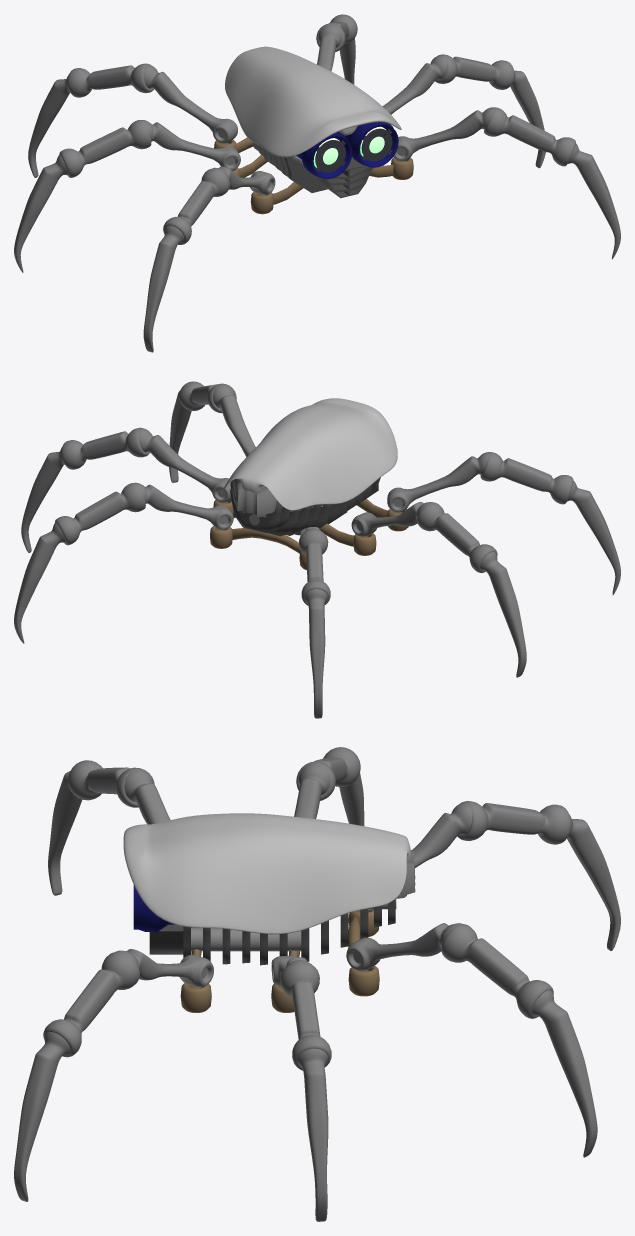
File: aranha_pernalonga.glb
The picture shows the model from 3 angles, top to bottom: view 1: azimuth 30°, elevation 25°; view 2: azimuth 150°, elevation 25°; view 3: azimuth 270°, elevation 25°; orthographic projection. The views are drawn at different scales.
Visible parts, largest first — view 1: Arainha_Pernas_longo_divLayer1, Arainha_Pernas_longo_divLayer3_(5), Arainha_Pernas_longo_divLayer3_(1), Arainha_Pernas_longo_divLayer2_(6), Arainha_Pernas_longo_divLayer4_(4), Arainha_Pernas_longo_divLayer3_(6), Arainha_Pernas_longo_divLayer3_(4), Arainha_Pernas_longo_divLayer4_(5), Arainha_Pernas_longo_divLayer3_(2), Arainha_Pernas_longo_divLayer4_(1), Arainha_Pernas_longo_divLayer2_(1), Arainha_Pernas_longo_divLayer2_(5) (+7 smaller); view 2: Arainha_Pernas_longo_divLayer1, Arainha_Pernas_longo_divLayer3_(4), Arainha_Pernas_longo_divLayer3_(3), Arainha_Pernas_longo_divLayer4_(5), Arainha_Pernas_longo_divLayer3_(5), Arainha_Pernas_longo_divLayer3_(2), Arainha_Pernas_longo_divLayer4_(6), Arainha_Pernas_longo_divLayer2_(2), Arainha_Pernas_longo_divLayer4_(3), Arainha_Pernas_longo_divLayer2_(4), Arainha_Pernas_longo_divLayer4_(4), Arainha_Pernas_longo_divLayer2_(3) (+6 smaller); view 3: Arainha_Pernas_longo_divLayer1, Arainha_Pernas_longo_divLayer3_(3), Arainha_Pernas_longo_divLayer4_(3), Arainha_Pernas_longo_divLayer4_(1), Arainha_Pernas_longo_divLayer3_(1), Arainha_Pernas_longo_divLayer4_(2), Arainha_Pernas_longo_divLayer3_(6), Arainha_Pernas_longo_divLayer3_(2), Arainha_Pernas_longo_divLayer4_(6), Arainha_Pernas_longo_divLayer2_(3), Arainha_Pernas_longo_divLayer3_(4), Arainha_Pernas_longo_divLayer4_(4) (+6 smaller).
Part boxes in pixels (x1,y1,x2,y2): Arainha_Pernas_longo_divLayer1: (214,46,413,214); Arainha_Pernas_longo_divLayer3_(5): (59,120,151,177); Arainha_Pernas_longo_divLayer3_(1): (484,107,575,166); Arainha_Pernas_longo_divLayer2_(6): (143,64,237,143); Arainha_Pernas_longo_divLayer4_(4): (143,225,184,352); Arainha_Pernas_longo_divLayer3_(6): (67,63,153,97); Arainha_Pernas_longo_divLayer3_(4): (163,168,229,244); Arainha_Pernas_longo_divLayer4_(5): (14,154,68,272); Arainha_Pernas_longo_divLayer3_(2): (435,54,514,89); Arainha_Pernas_longo_divLayer4_(1): (567,143,620,259); Arainha_Pernas_longo_divLayer2_(1): (393,107,495,161); Arainha_Pernas_longo_divLayer2_(5): (141,120,240,170); Arainha_Pernas_longo_divLayer1: (210,398,408,570); Arainha_Pernas_longo_divLayer3_(4): (480,452,573,504); Arainha_Pernas_longo_divLayer3_(3): (55,483,145,545); Arainha_Pernas_longo_divLayer4_(5): (480,552,526,677); Arainha_Pernas_longo_divLayer3_(5): (417,502,497,572); Arainha_Pernas_longo_divLayer3_(2): (61,427,149,469); Arainha_Pernas_longo_divLayer4_(6): (305,589,327,718); Arainha_Pernas_longo_divLayer2_(2): (138,428,231,502); Arainha_Pernas_longo_divLayer4_(3): (14,522,65,643); Arainha_Pernas_longo_divLayer2_(4): (387,452,489,512); Arainha_Pernas_longo_divLayer4_(4): (567,480,620,594); Arainha_Pernas_longo_divLayer2_(3): (134,482,233,529); Arainha_Pernas_longo_divLayer1: (123,813,415,1012); Arainha_Pernas_longo_divLayer3_(3): (441,924,553,1018); Arainha_Pernas_longo_divLayer4_(3): (532,990,597,1157); Arainha_Pernas_longo_divLayer4_(1): (14,1031,70,1201); Arainha_Pernas_longo_divLayer3_(1): (43,952,139,1057); Arainha_Pernas_longo_divLayer4_(2): (297,1048,328,1221); Arainha_Pernas_longo_divLayer3_(6): (457,801,570,844); Arainha_Pernas_longo_divLayer3_(2): (280,962,331,1070); Arainha_Pernas_longo_divLayer4_(6): (567,814,620,950); Arainha_Pernas_longo_divLayer2_(3): (346,923,461,970); Arainha_Pernas_longo_divLayer3_(4): (68,760,154,807); Arainha_Pernas_longo_divLayer4_(4): (48,771,81,895).
Bounding box in the file's own units: 20.49 × 6.59 × 15.42.
